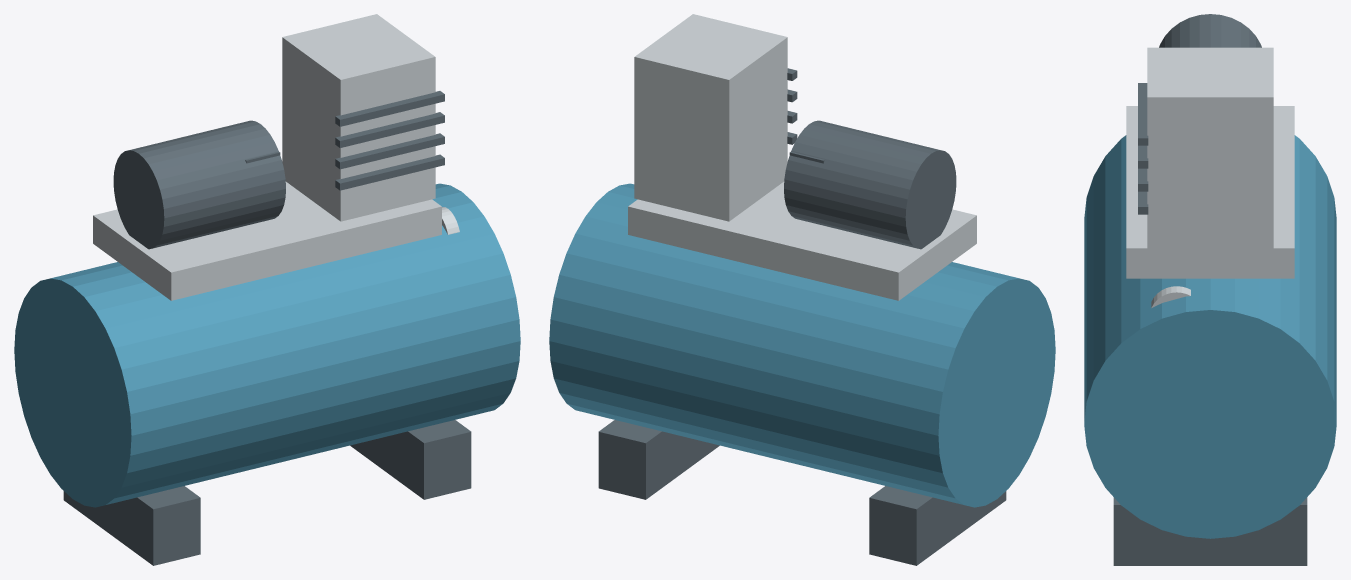
Rendered from compressor.glb.
The picture shows the model from 3 angles, left to right: view 1: azimuth 30°, elevation 25°; view 2: azimuth 150°, elevation 25°; view 3: azimuth 270°, elevation 25°; orthographic projection. The views are drawn at different scales.
Bounding box in the file's own units: 1.15 × 1.2 × 0.6.
